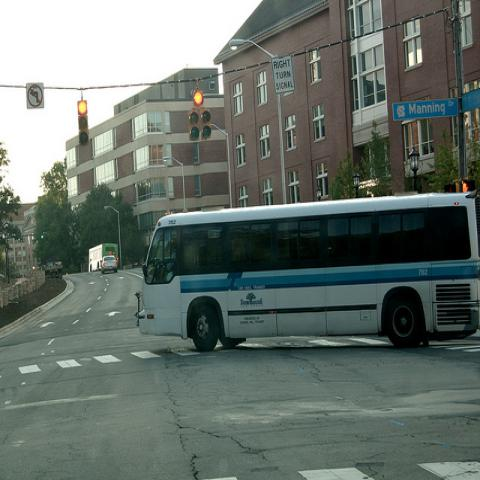bus: (135, 190, 479, 353), (88, 243, 118, 271)
car: (101, 255, 117, 274)
